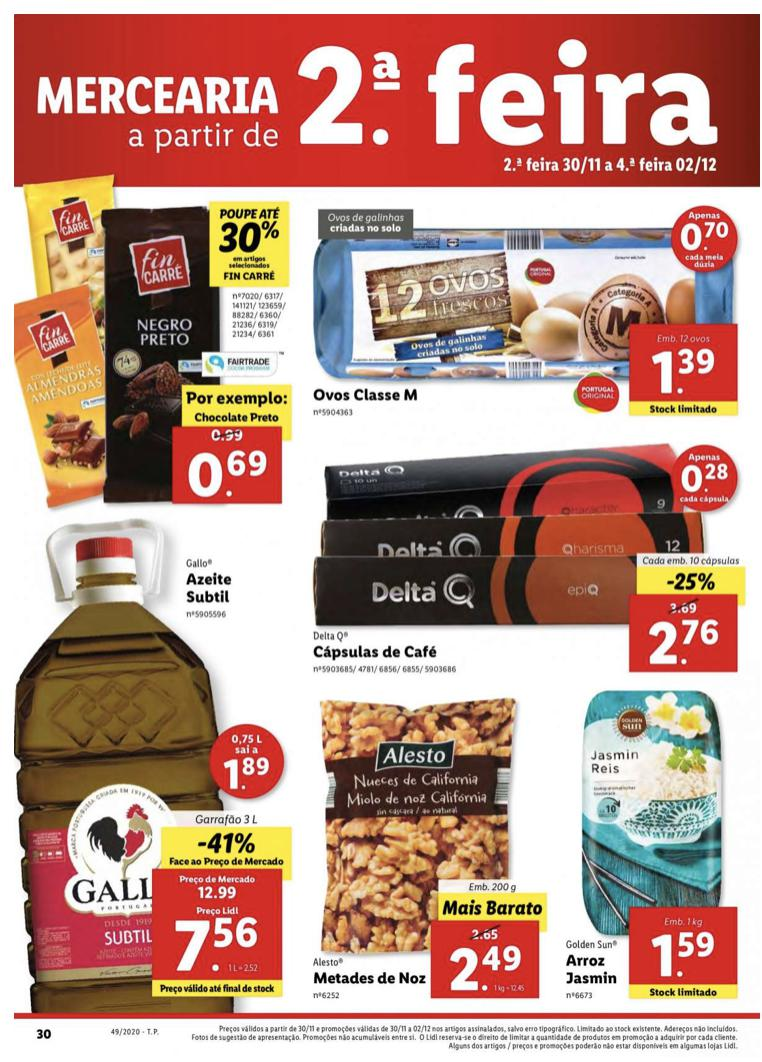name: (307, 966, 432, 989), (308, 378, 424, 401), (312, 643, 440, 662), (561, 952, 623, 989), (179, 572, 237, 607)
price: (173, 914, 264, 974), (444, 943, 523, 997), (190, 447, 269, 499), (648, 930, 721, 982), (646, 618, 721, 661)
product: (3, 508, 299, 1019), (306, 436, 749, 689), (315, 197, 749, 436), (16, 168, 299, 507), (306, 689, 545, 1006), (554, 689, 746, 1007)
promotion: (215, 219, 282, 256), (195, 828, 258, 856), (664, 569, 721, 594)
